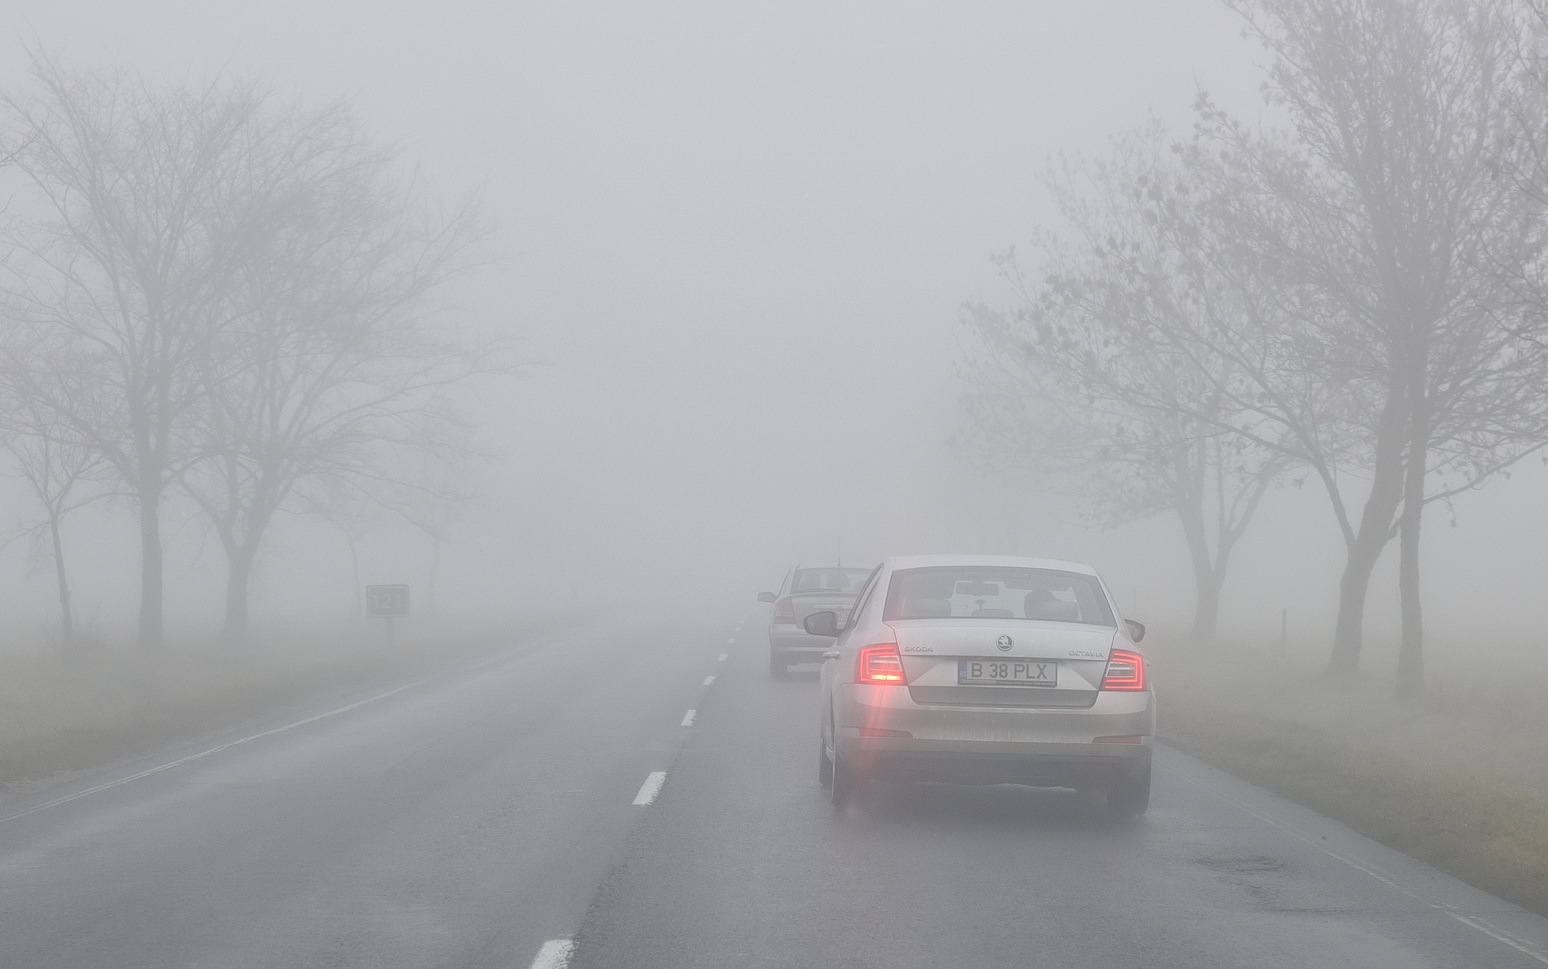car: (817, 556, 1156, 828), (757, 563, 867, 679)
